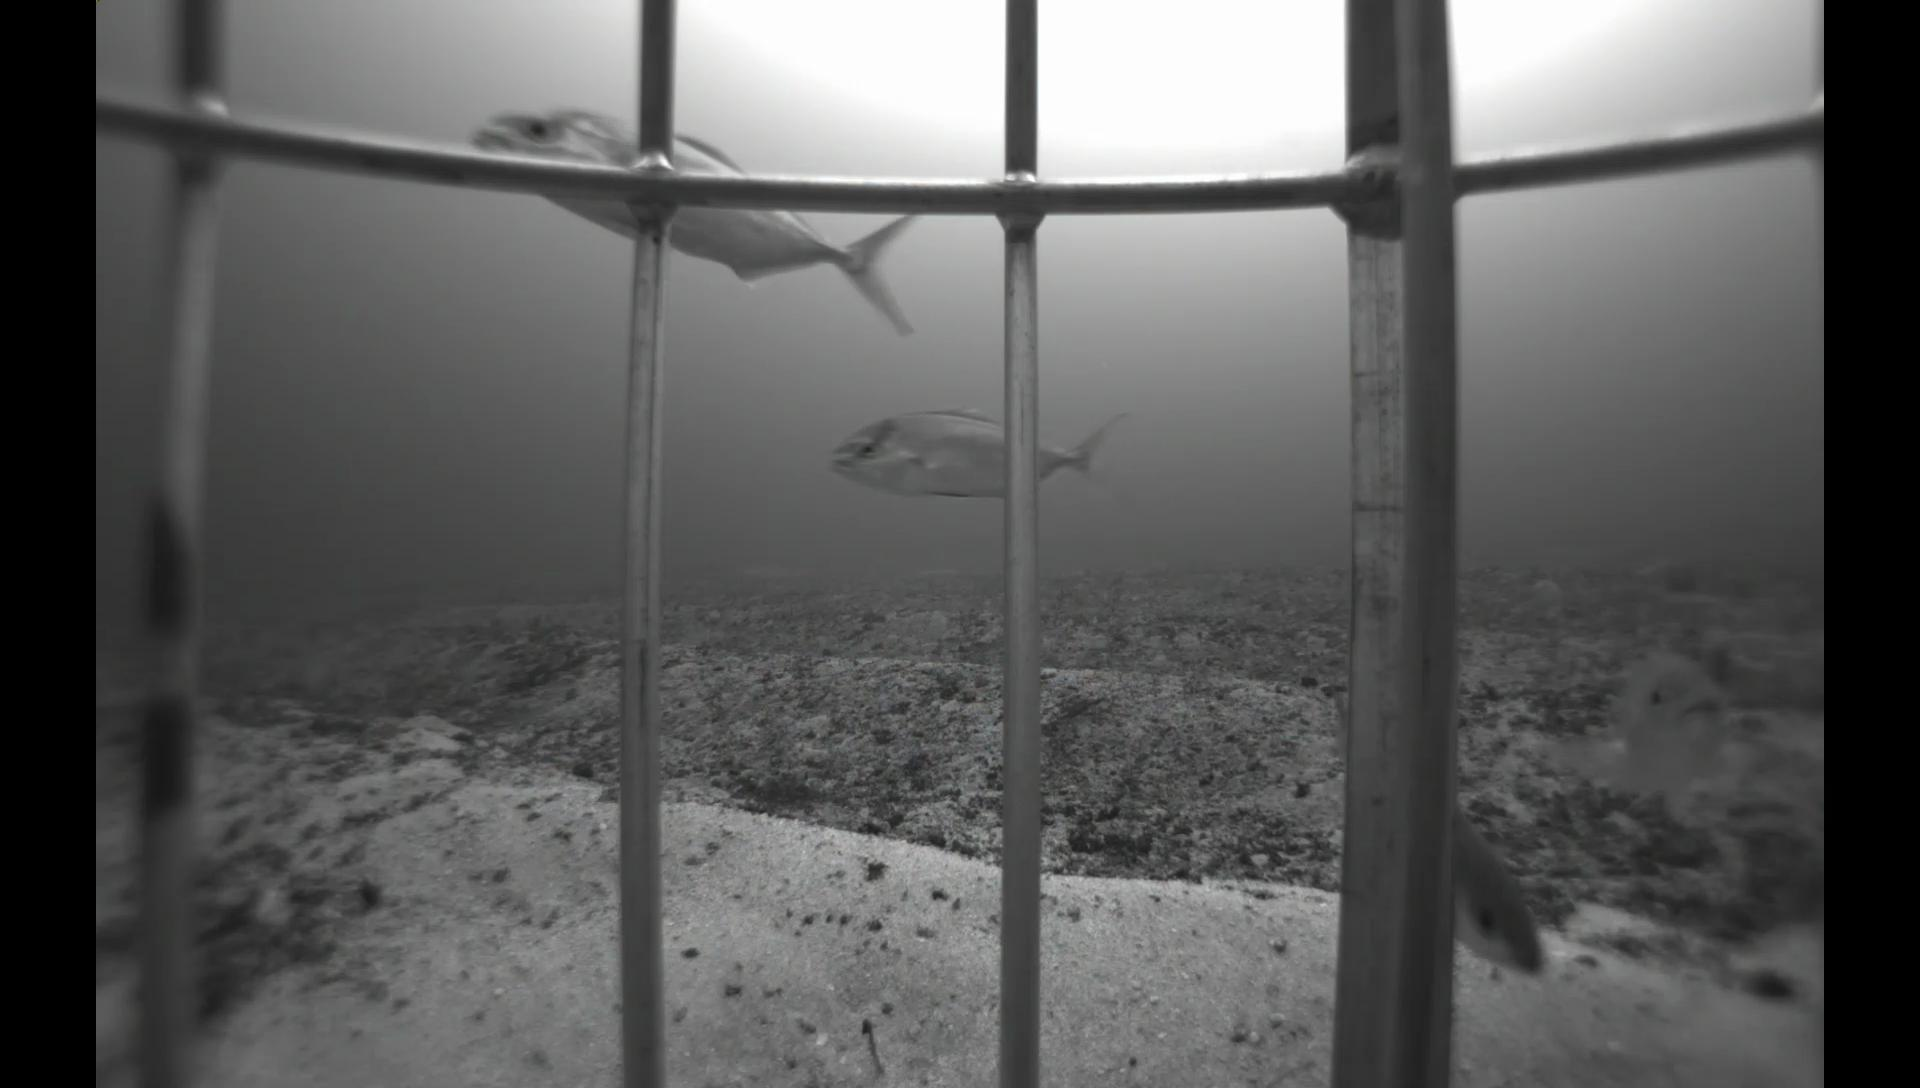RHOMBOPLITESAURORUBENS-170152001: (1323, 687, 1553, 990), (1538, 628, 1768, 833), (1775, 841, 1821, 939)
SERIOLAFASCIATA-170113103: (454, 100, 942, 353), (814, 390, 1160, 528)
